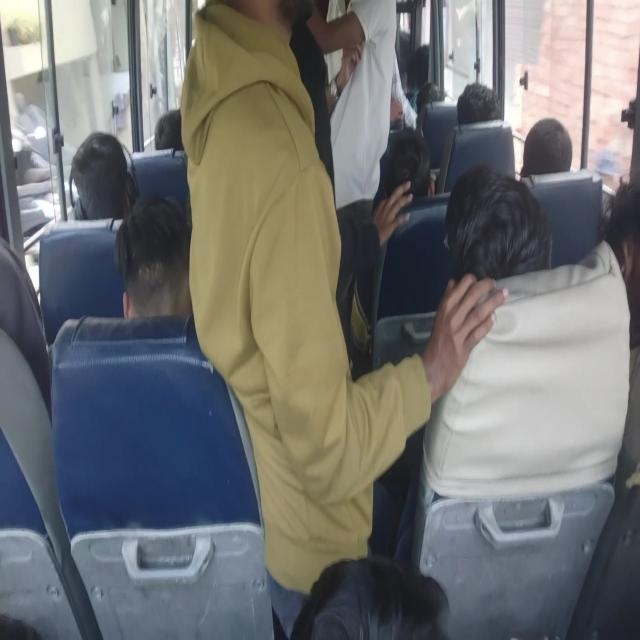person: (196, 0, 318, 158), (288, 546, 446, 640), (450, 188, 560, 288), (117, 202, 199, 328), (0, 261, 42, 432), (86, 128, 150, 240), (586, 198, 640, 318), (520, 111, 579, 190), (461, 72, 512, 156), (380, 130, 440, 198), (157, 86, 195, 152), (420, 79, 452, 133), (401, 47, 434, 80)
